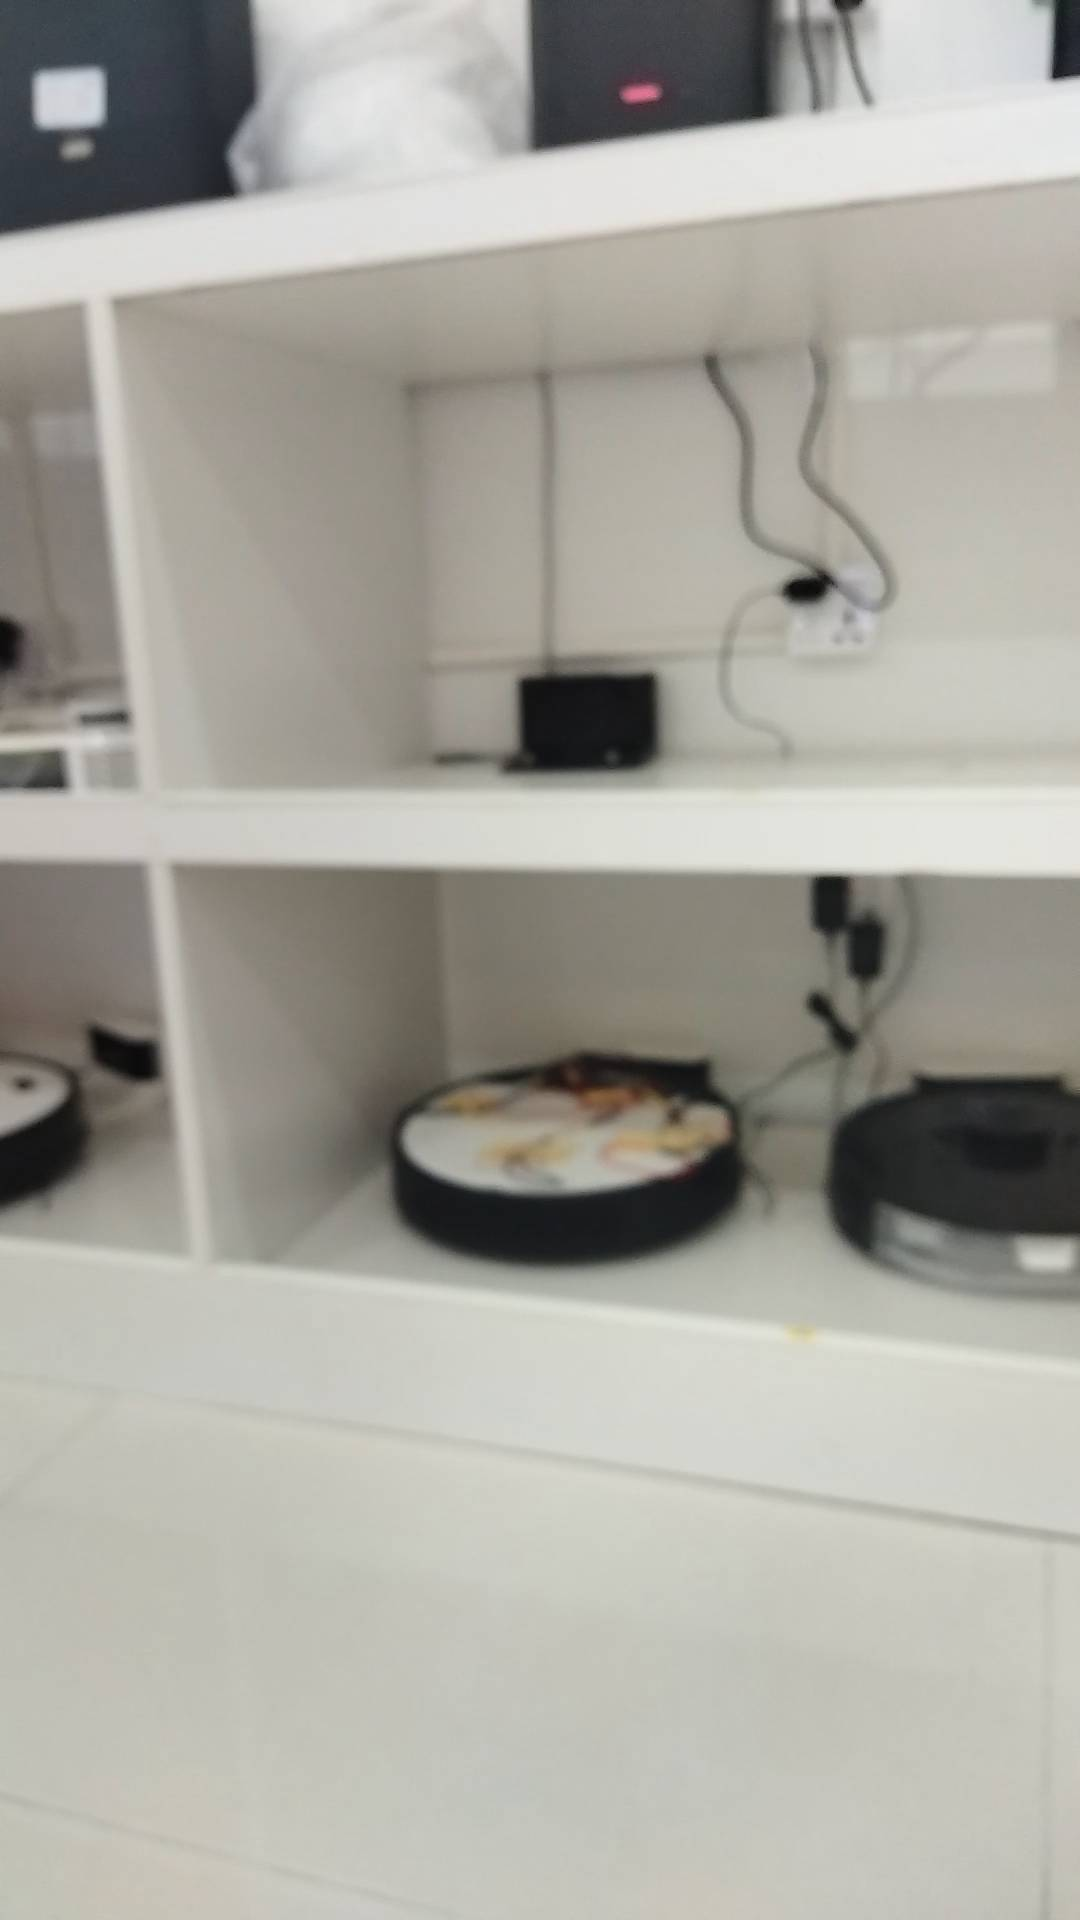dust collecting barrel: (1, 1, 272, 248)
recharge seat: (504, 674, 661, 764), (61, 1015, 167, 1120)
